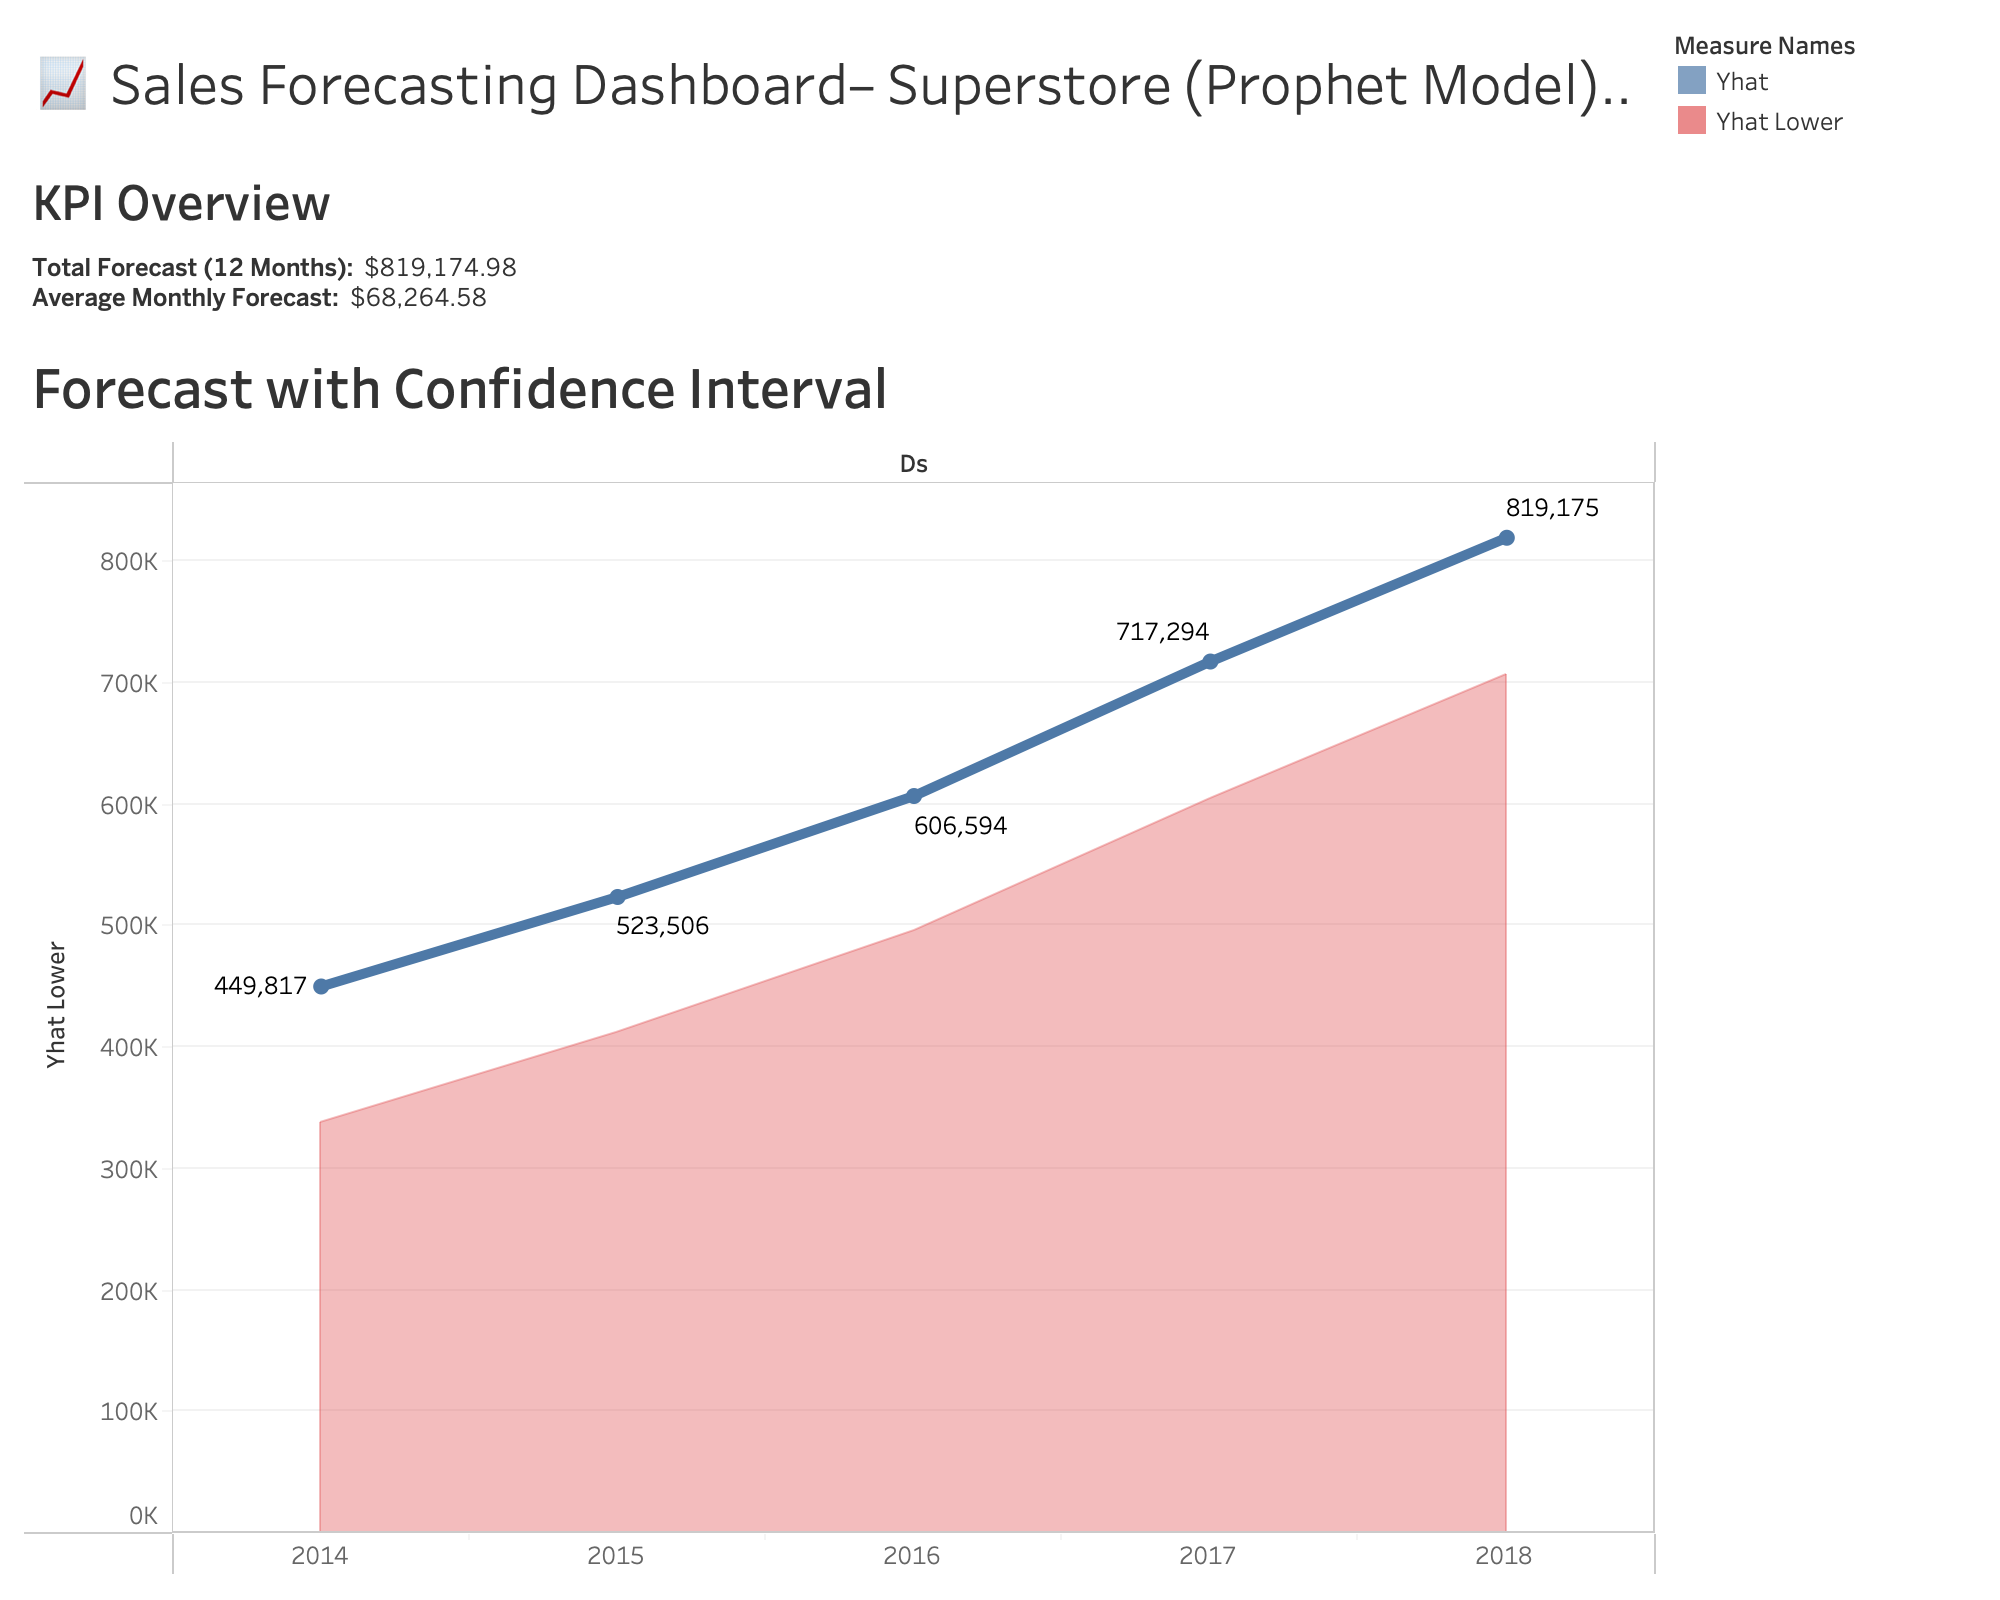

What the dashboard file says about the page in this screenshot:
{"tool":"tableau","page":{"name":"Sales Forecasting Dashboard","canvas":[1000,800],"ordinal":0},"visuals":[{"type":"title","box":[8,8,824,66]},{"type":"legend","title":"Forecast with Confidence Interval","param":"[federated.0r2u7bo1g9mxar133r7bk1fhumsa].[:Measure Names]","box":[832,8,160,66]},{"type":"worksheet","title":"KPI Overview","mark":"Automatic","box":[8,74,824,91]},{"type":"worksheet","title":"Forecast with Confidence Interval","mark":"Area","rows":["yhat_lower","yhat"],"cols":["ds"],"box":[8,165,824,627]}]}

Visuals, with their boxes in screenshot pixels (x1, y1, x2, y2), scaled from the page's 1000x800 canvas onto the 2000x1600 screenshot:
title: (left=16, top=16, right=1664, bottom=148)
"Forecast with Confidence Interval" legend: (left=1664, top=16, right=1984, bottom=148)
"KPI Overview" worksheet: (left=16, top=148, right=1664, bottom=330)
"Forecast with Confidence Interval" worksheet (Area marks): (left=16, top=330, right=1664, bottom=1584)
